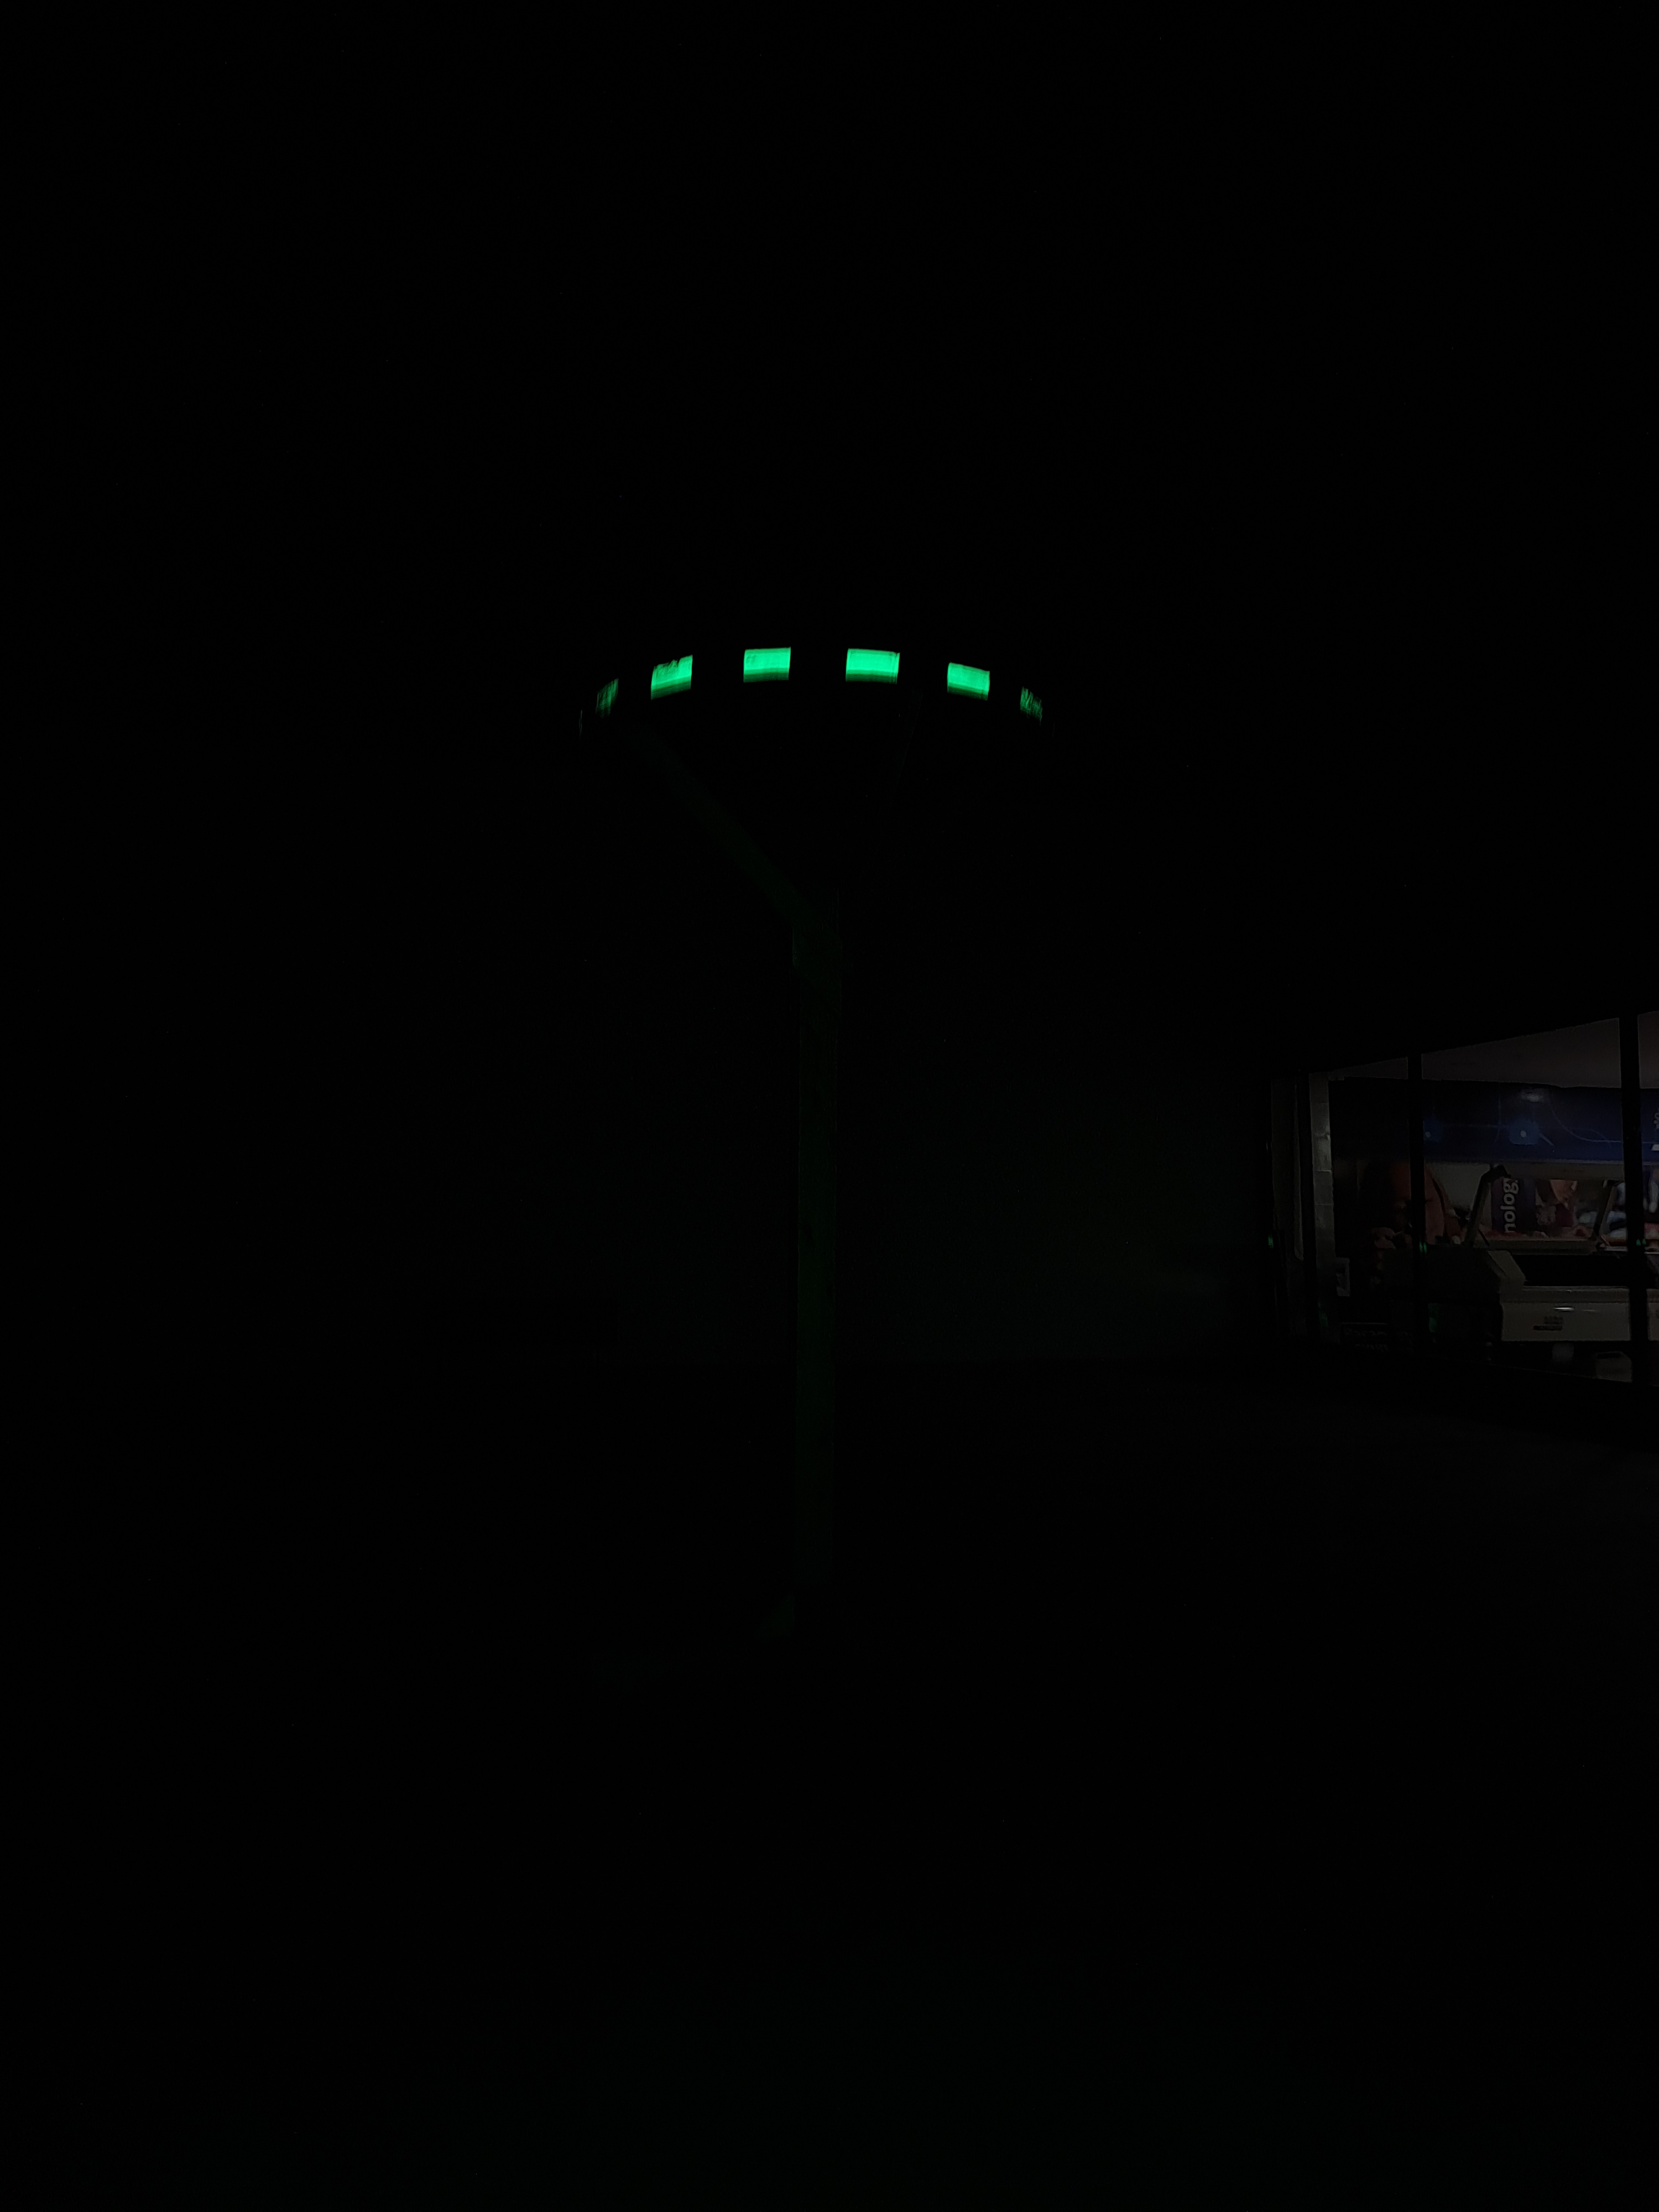hoop: (542, 643, 1061, 742)
